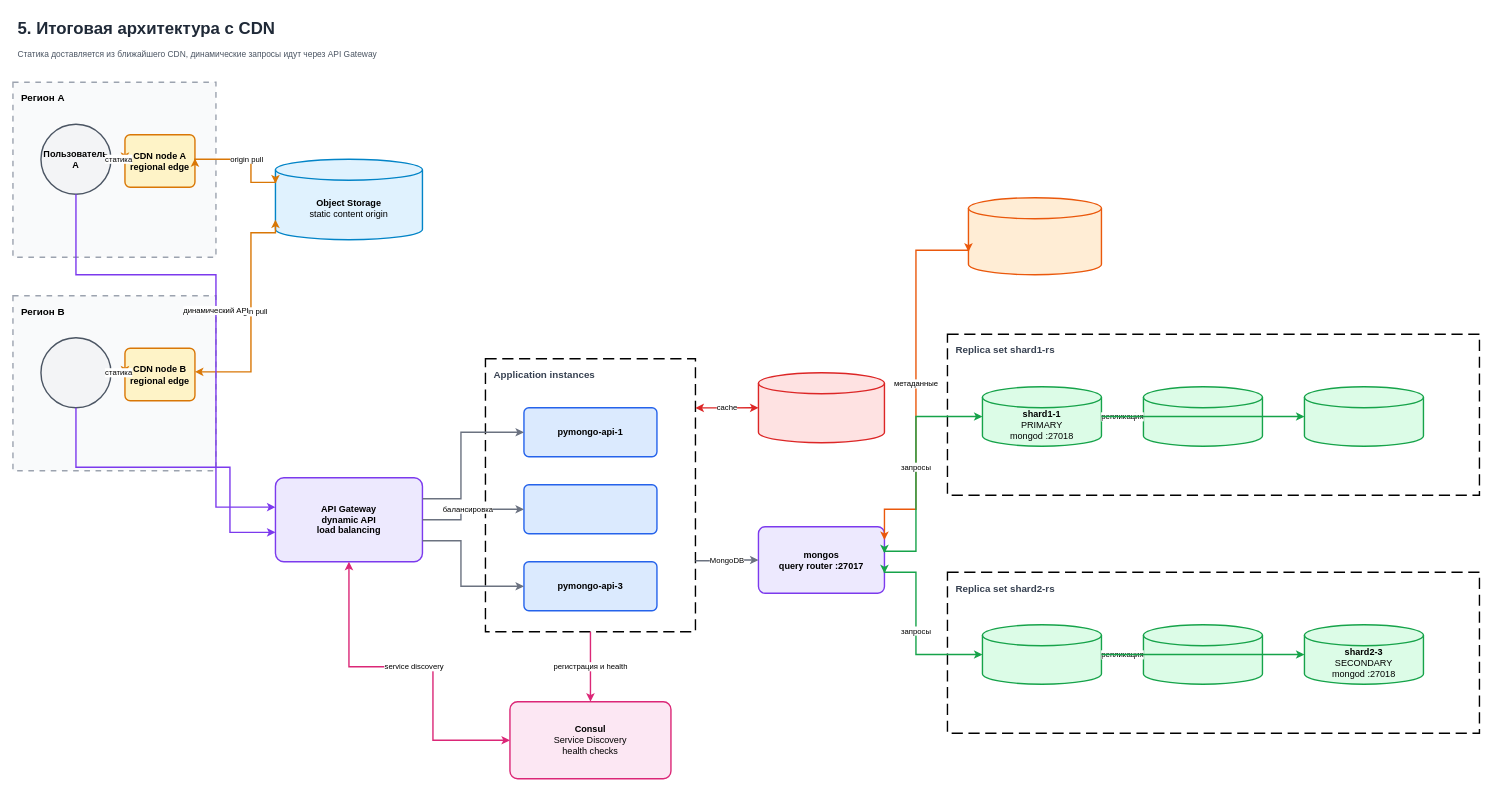
Some shapes in this 1492 by 791 pixel diagram are drawn without their labels. The centre of each missing label's shape, as x and y in pixels:
configsvr configSrv :27019 config-rs: the point at 1034,236
pymongo-api-2: the point at 590,509
redis cache :6379: the point at 821,407
shard1-2 SECONDARY mongod :27018: the point at 1202,416
shard1-3 SECONDARY mongod :27018: the point at 1363,416
shard2-1 PRIMARY mongod :27018: the point at 1041,654
shard2-2 SECONDARY mongod :27018: the point at 1202,654
Пользователь B: the point at 75,372
